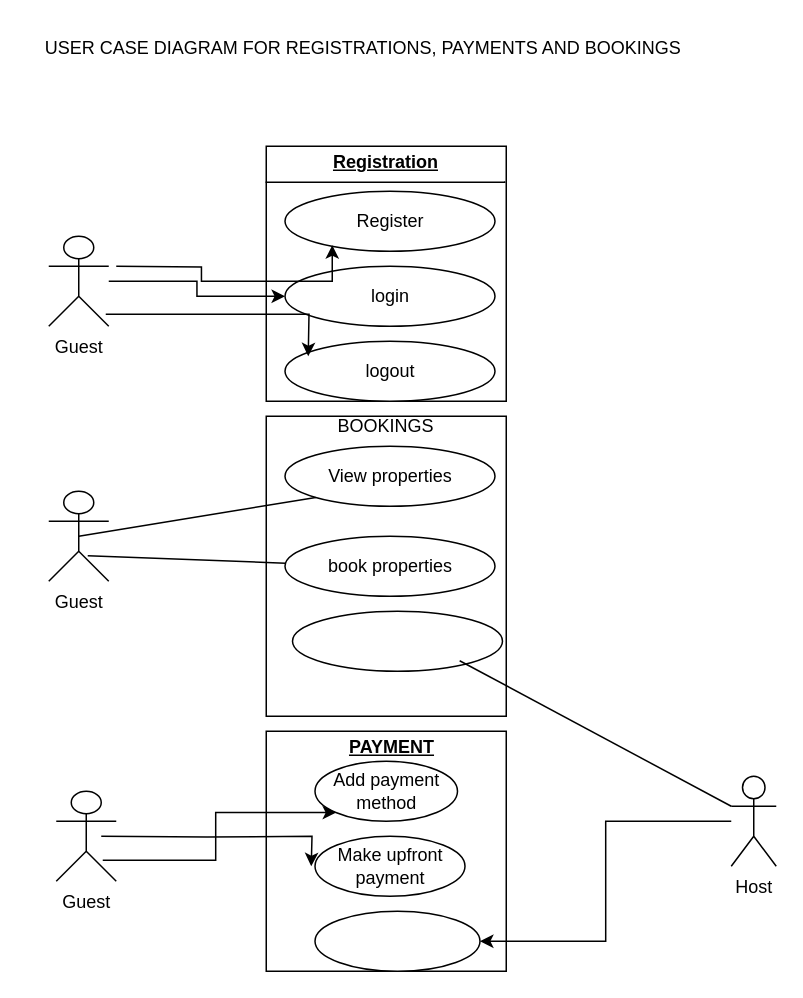
Some shapes in this 803 by 998 pixel diagram are drawn without their labels. Each missing label, with the centre of its shape:
"Payouts" belongs at pixel 397 940.
"update and delete properties" belongs at pixel 396 640.
